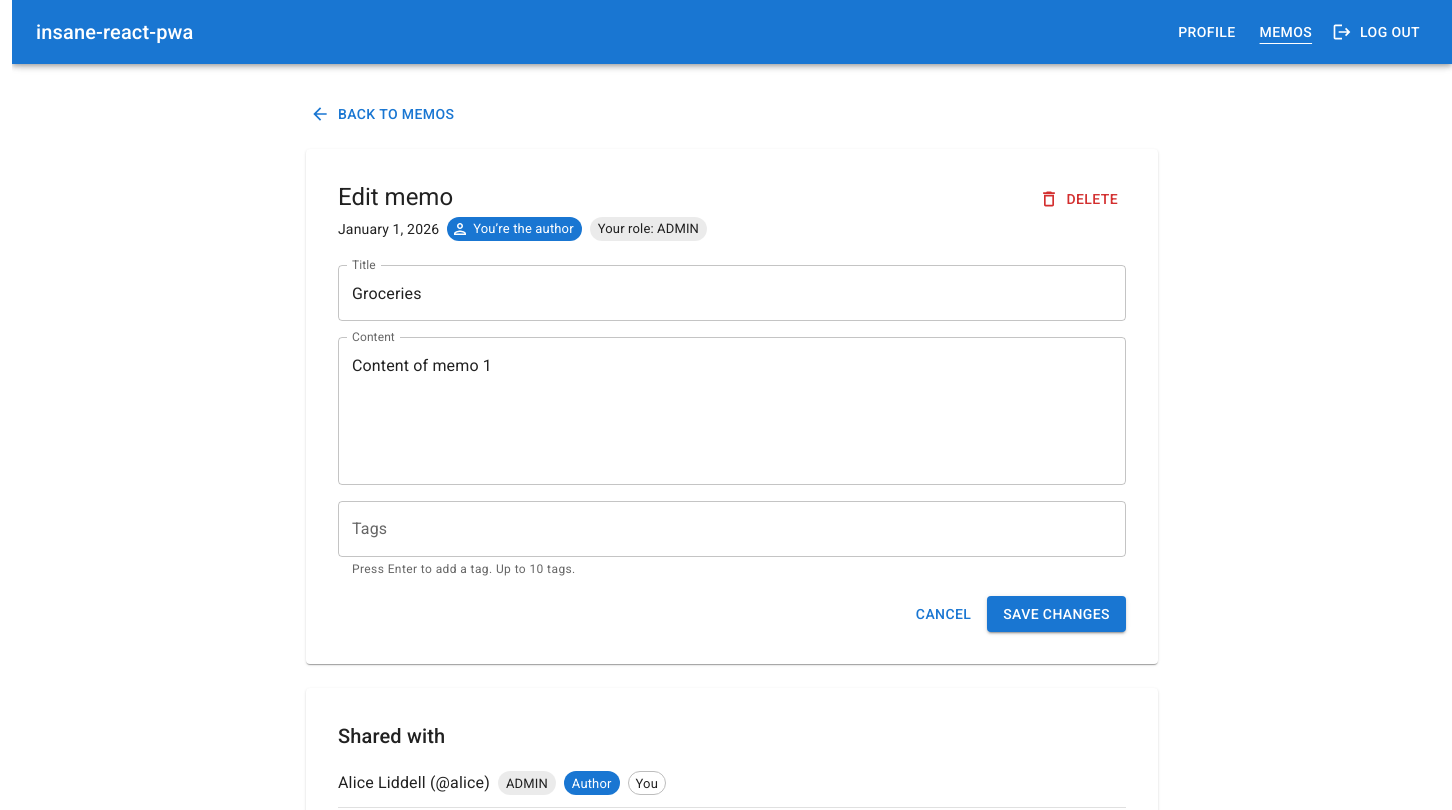
Test case: MemoEditorPage › shows field errors from the API
Check: the heading "Edit memo" is shown, box [338,180,453,217]
Click the button "Save changes" at coordinates (1057, 614), box [987,596,1126,632]
(page scrolled)
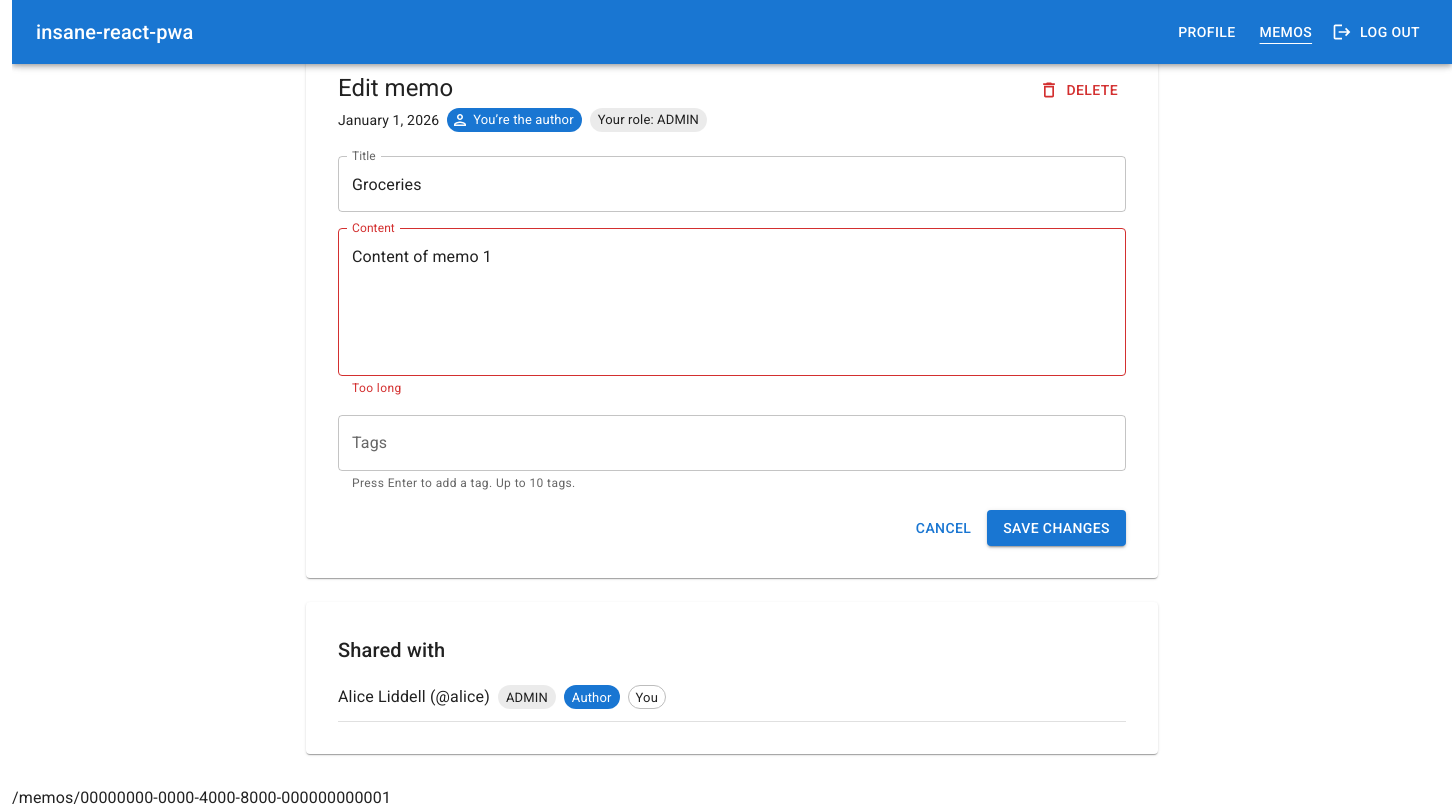
Check: the text "Too long" is shown, box [352,381,402,395]
